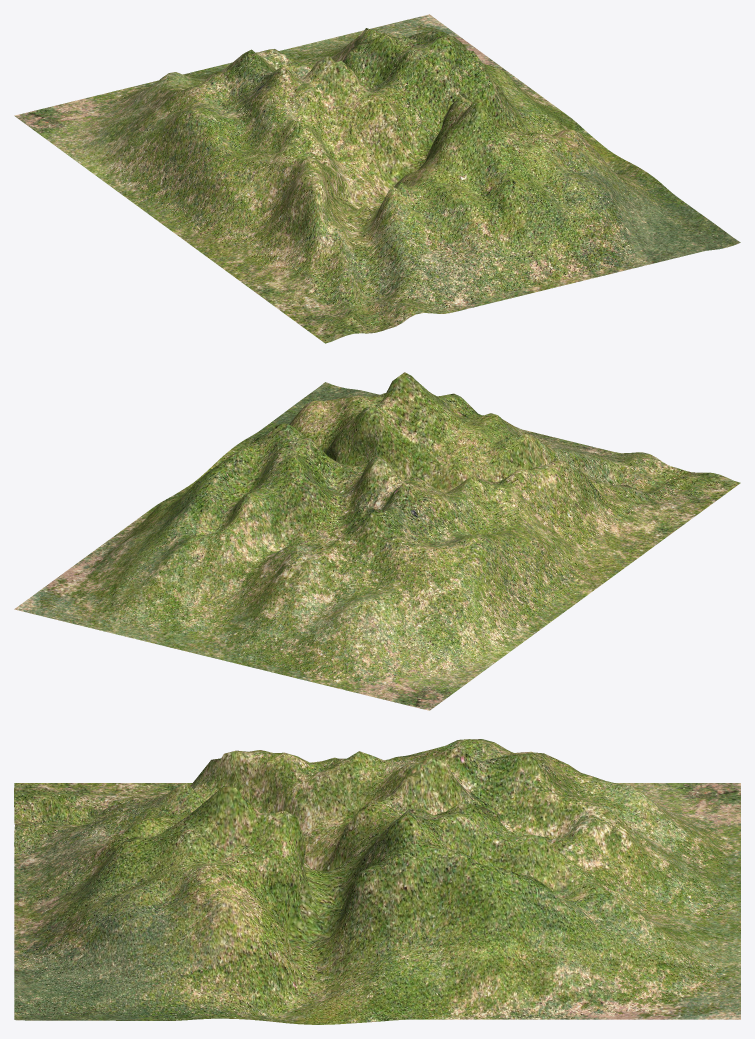
The model's file is mountain.glb.
3 views of the same model, one above another, from view 1: azimuth 30°, elevation 25°; view 2: azimuth 150°, elevation 25°; view 3: azimuth 270°, elevation 25° (orthographic). The views are drawn at different scales.
Parts seen in each view (by area): view 1: Landscape; view 2: Landscape; view 3: Landscape.
Boxes of the visible parts, bbox=[...] form: Landscape: bbox=[14, 14, 740, 343]; Landscape: bbox=[14, 372, 740, 710]; Landscape: bbox=[14, 739, 740, 1024].
Size of the model in its own units: 6.47 by 1.88 by 8.39.
Materials: 1 (1 with a texture image).
